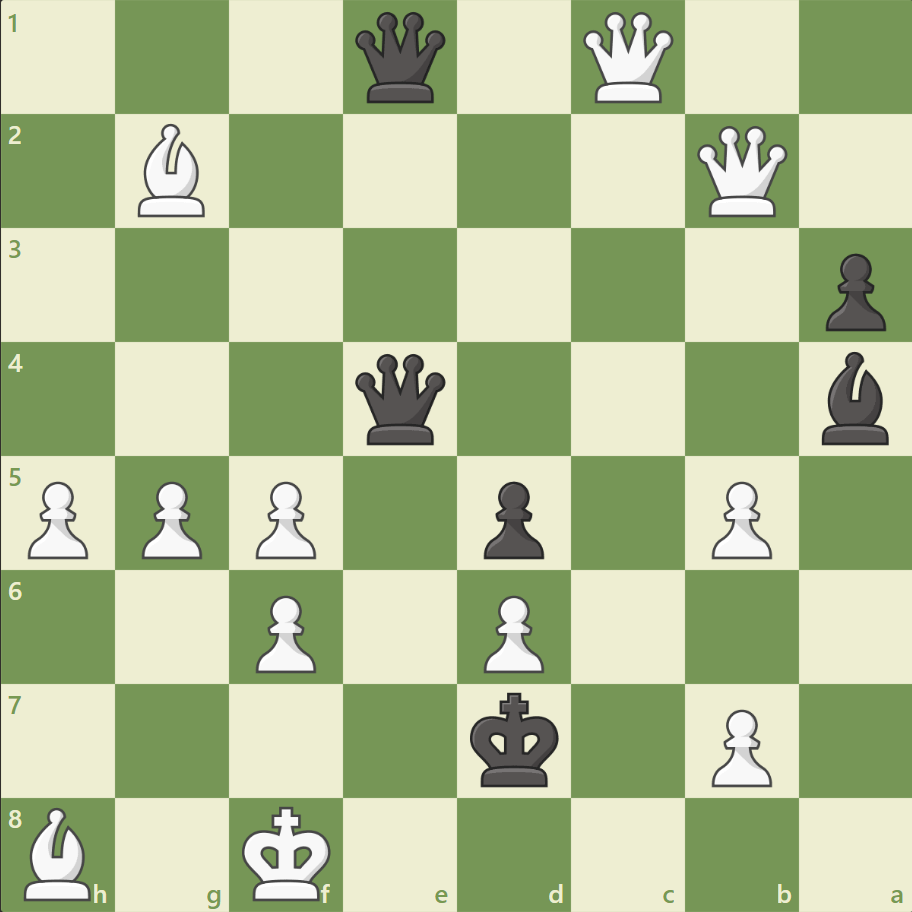B: (17, 801, 101, 904), (131, 120, 215, 222)
K: (238, 798, 338, 906)
P: (701, 700, 776, 791), (474, 586, 549, 677), (247, 586, 322, 677), (701, 473, 776, 564), (247, 473, 322, 564), (133, 473, 208, 564), (20, 473, 95, 564)
Q: (691, 122, 790, 222), (578, 9, 677, 108)
b: (812, 347, 896, 449)
k: (465, 685, 565, 793)
p: (474, 473, 549, 564), (815, 246, 889, 337)
q: (351, 349, 450, 449), (351, 9, 450, 108)
